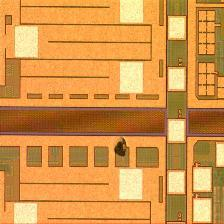PARTICLE: (108, 132, 140, 164)
